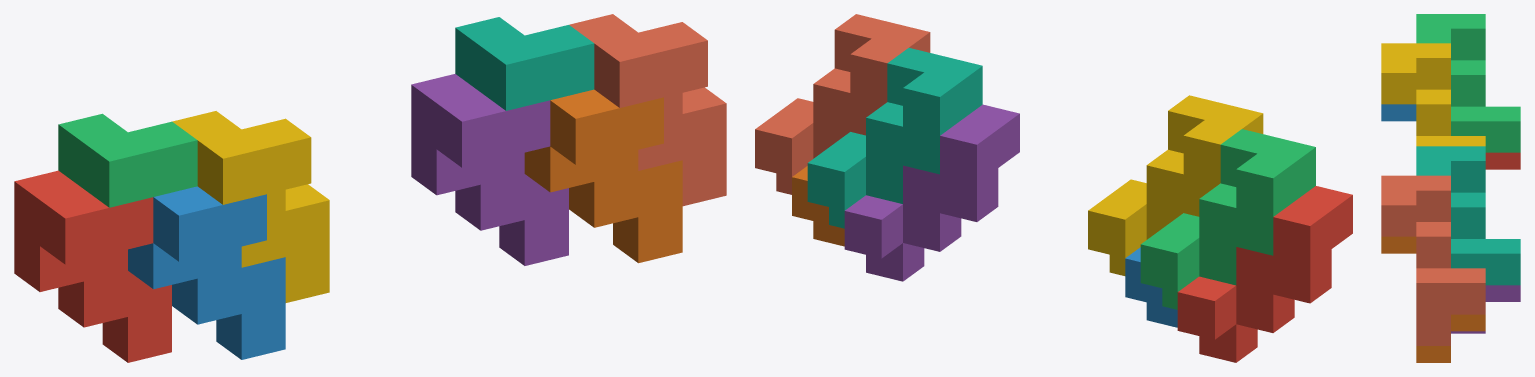
Rendered from tiling.obj.
3 renders of one model, left to right at view 1: azimuth 30°, elevation 25°; view 2: azimuth 150°, elevation 25°; view 3: azimuth 270°, elevation 25°, orthographic. The views are drawn at different scales.
Visible parts, largest first — view 1: copy_1_domain_5, copy_1_domain_1, copy_1_domain_6, copy_1_domain_2, copy_1_domain_4, copy_1_domain_8, copy_1_domain_3, copy_1_domain_7; view 2: copy_1_domain_3, copy_1_domain_7, copy_1_domain_1, copy_1_domain_5, copy_1_domain_4, copy_1_domain_8, copy_1_domain_2, copy_1_domain_6; view 3: copy_1_domain_8, copy_1_domain_7, copy_1_domain_3, copy_1_domain_4, copy_1_domain_6, copy_1_domain_5, copy_1_domain_1, copy_1_domain_2.
Boxes of the visible parts, x1,y1,x2,y2 form: copy_1_domain_5: (411,74,568,265); copy_1_domain_1: (14,170,171,362); copy_1_domain_6: (524,89,682,263); copy_1_domain_2: (128,186,285,359); copy_1_domain_4: (172,111,329,302); copy_1_domain_8: (569,14,726,206); copy_1_domain_3: (58,113,197,207); copy_1_domain_7: (455,17,594,110); copy_1_domain_3: (1140,129,1315,309); copy_1_domain_7: (807,48,982,228); copy_1_domain_1: (1177,186,1352,362); copy_1_domain_5: (844,104,1019,281); copy_1_domain_4: (1088,95,1263,275); copy_1_domain_8: (755,14,930,194); copy_1_domain_2: (1125,247,1177,327); copy_1_domain_6: (792,166,844,246); copy_1_domain_8: (1381,175,1485,345); copy_1_domain_7: (1416,146,1520,285); copy_1_domain_3: (1416,14,1520,152); copy_1_domain_4: (1381,43,1485,146); copy_1_domain_6: (1381,236,1485,362); copy_1_domain_5: (1451,285,1520,333); copy_1_domain_1: (1485,152,1520,169); copy_1_domain_2: (1381,104,1416,121).
Bounding box in the file's own units: 15 × 5 × 4.
